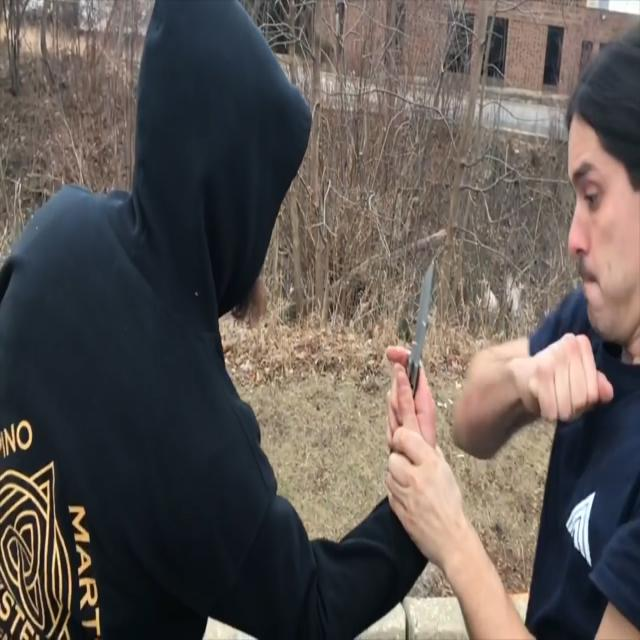knife: (409, 254, 439, 396)
